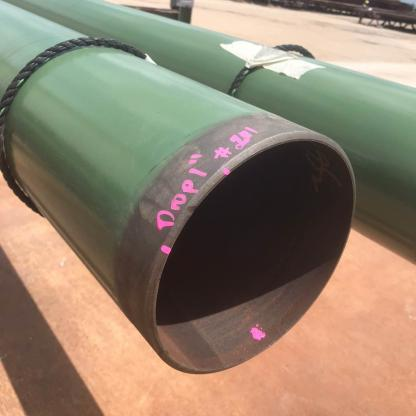Bevel: (180, 205, 204, 218)
